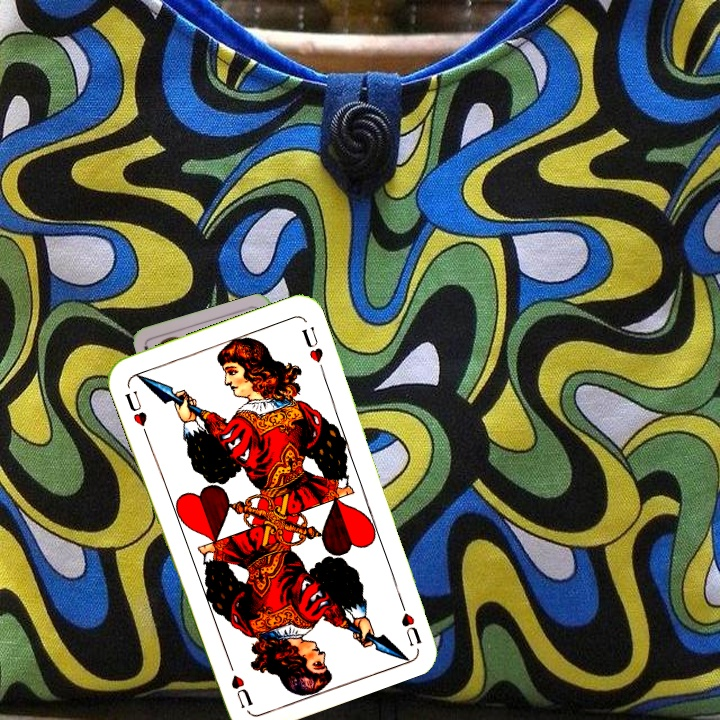HU: (394, 591, 424, 649), (121, 386, 150, 429)
